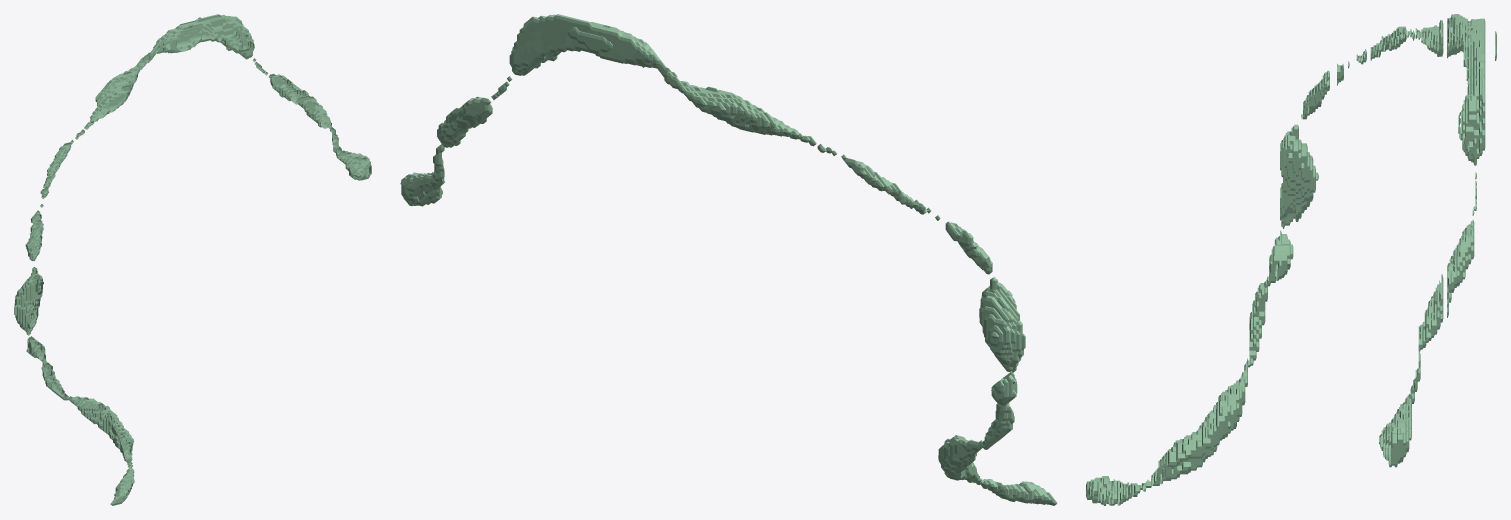
The model's file is SVV_ASEL.gltf.
3 views of the same model, side by side, from view 1: azimuth 30°, elevation 25°; view 2: azimuth 150°, elevation 25°; view 3: azimuth 270°, elevation 25° (orthographic). The views are drawn at different scales.
Visible parts, largest first — view 1: ASEL; view 2: ASEL; view 3: ASEL.
Boxes of the visible parts, x1=… form: ASEL: x1=14, y1=14, x2=371, y2=505; ASEL: x1=400, y1=14, x2=1057, y2=505; ASEL: x1=1086, y1=14, x2=1496, y2=505.
Bounding box in the file's own units: 106039 × 93762 × 55843.
